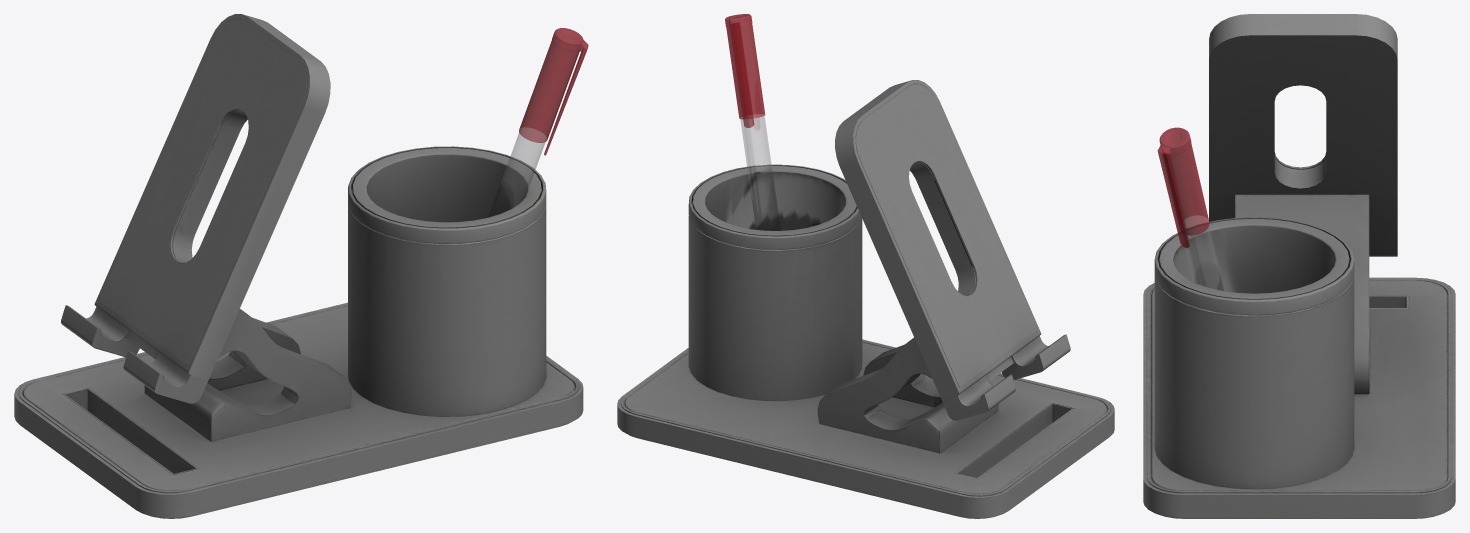
File: mobile stand.glb
3 renders of one model, left to right at view 1: azimuth 30°, elevation 25°; view 2: azimuth 150°, elevation 25°; view 3: azimuth 270°, elevation 25°, orthographic. The views are drawn at different scales.
Visible parts, largest first — view 1: Cube, Cube.001, Cylinder; view 2: Cube, Cube.001, Cylinder; view 3: Cube, Cube.001, Cylinder.
Part boxes in pixels (x1,y1,x2,y2): Cube: (14, 146, 583, 518); Cube.001: (61, 14, 330, 403); Cylinder: (488, 28, 588, 217); Cube: (617, 164, 1114, 518); Cube.001: (835, 80, 1070, 420); Cylinder: (725, 14, 780, 230); Cube: (1143, 194, 1455, 518); Cube.001: (1209, 14, 1397, 256); Cylinder: (1157, 127, 1223, 290).
Size of the model in its own units: 3.73 by 3.08 by 2.26.
4 materials, 4 textured.
